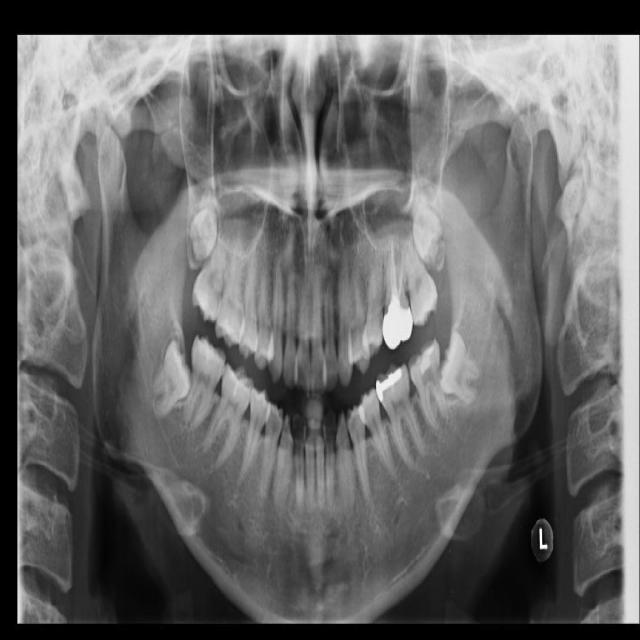3M ESPE Implant: (187, 207, 220, 264)
73: (623, 596, 635, 609)
BioHorizons Implant: (402, 231, 441, 326)
BioLife Implant: (406, 173, 447, 266)
Biomet 3i Implant: (438, 331, 480, 404)
Blue Sky Bio Implant: (405, 339, 451, 435)
Caries: (190, 227, 229, 323)
Implant: (184, 335, 229, 429)
Keystone Dental Implant: (142, 338, 206, 422)
